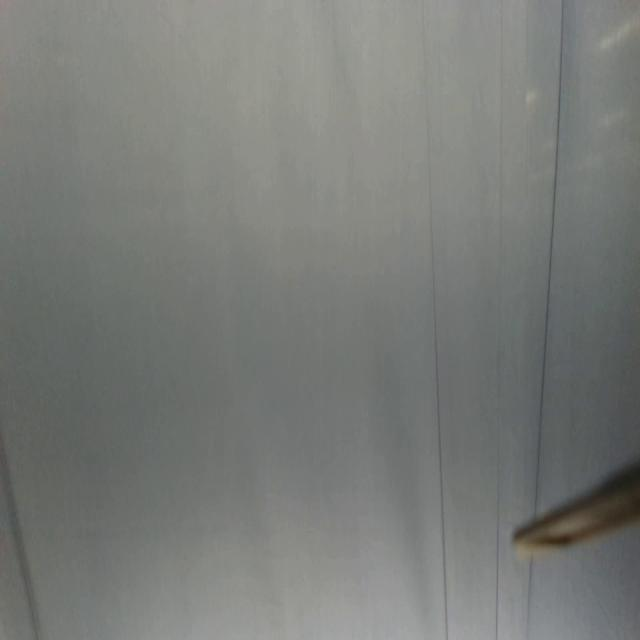crease: (421, 1, 449, 640), (532, 0, 566, 506), (0, 434, 41, 640), (494, 1, 505, 639), (523, 557, 537, 640)
